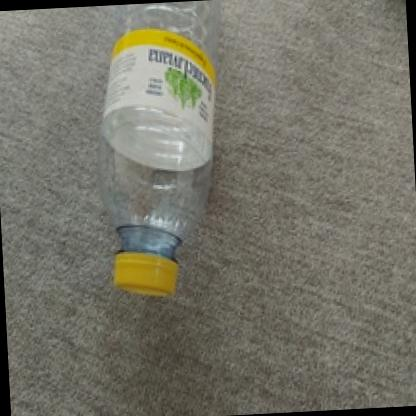plastic_bottles: (96, 0, 236, 298)
